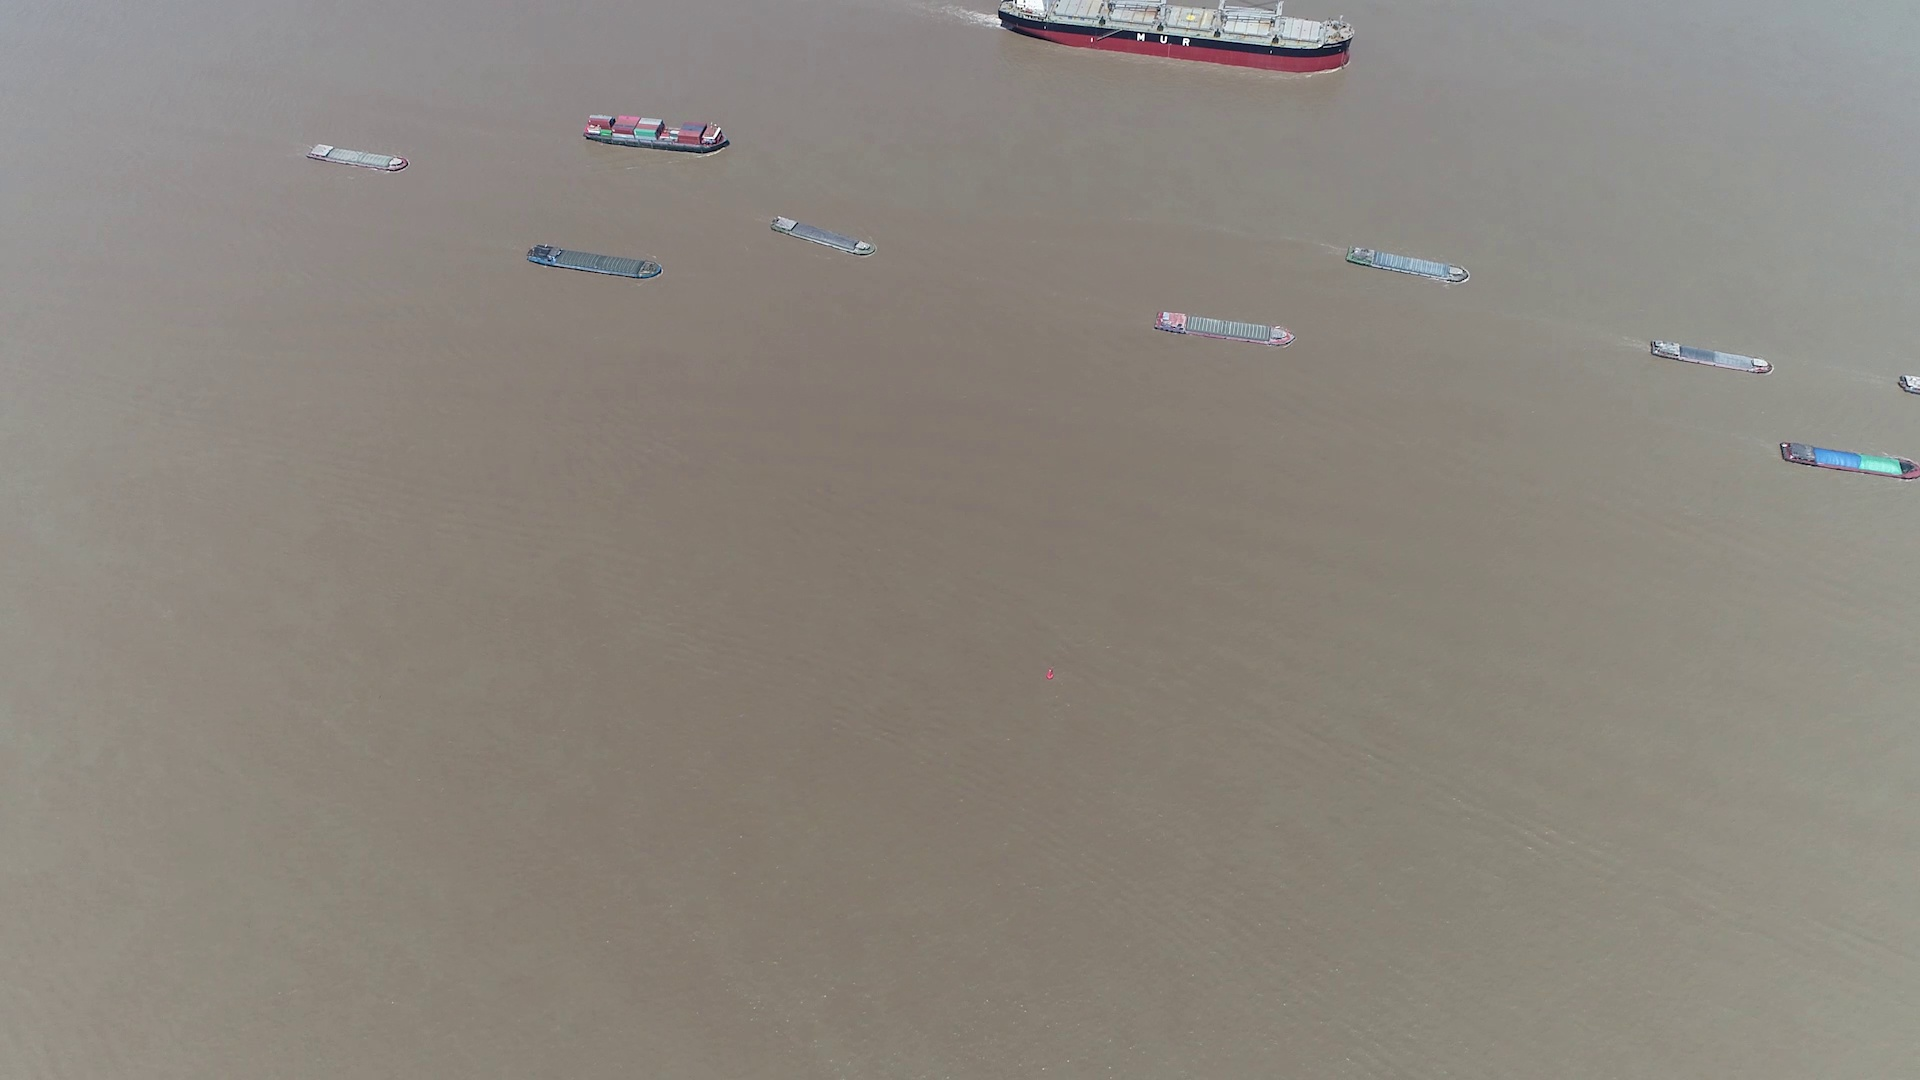ship: (1000, 0, 1350, 71), (582, 112, 731, 152), (1780, 442, 1920, 483), (1154, 309, 1294, 347), (1346, 243, 1472, 285), (526, 244, 661, 282), (773, 214, 880, 257), (1648, 339, 1774, 375), (305, 141, 407, 173)
